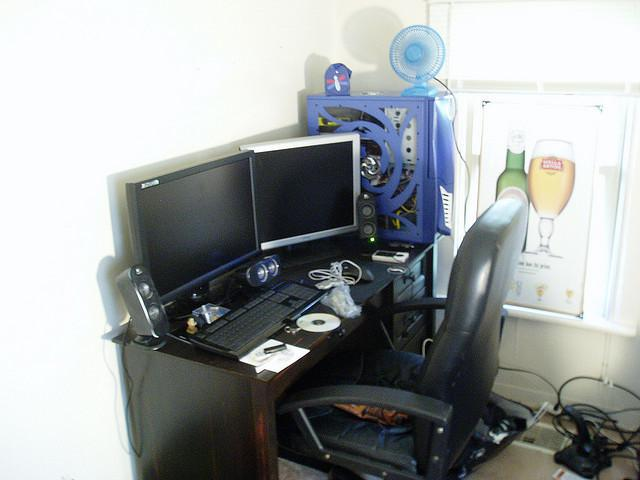tv: (123, 149, 267, 298), (263, 132, 362, 252)
